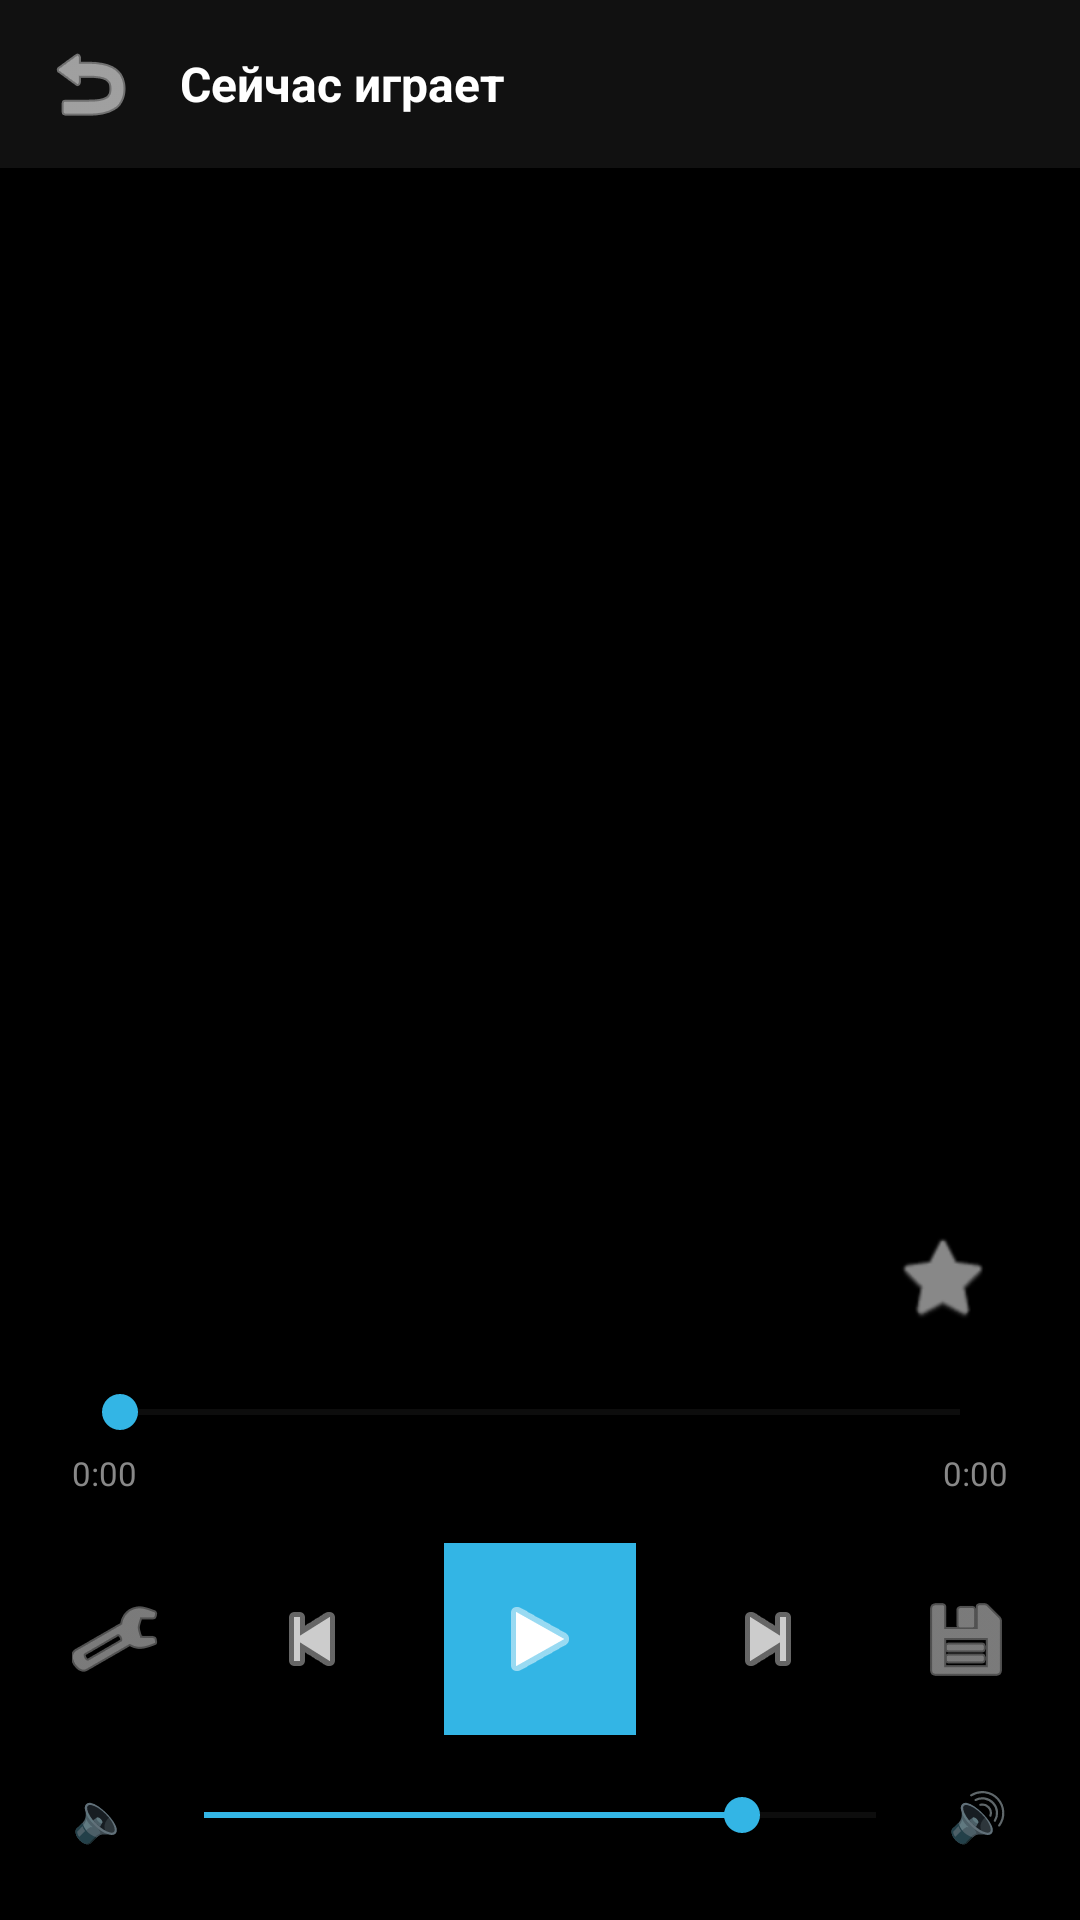

Named icons in this screenshot (1080×1920) and their bounding boxes, (x1,y1,x2,y2):
Back: (57,53,126,116)
Like: (903,1239,983,1316)
Next: (745,1612,791,1666)
Play/Pause: (444,1543,636,1735)
Previous: (289,1612,335,1666)
